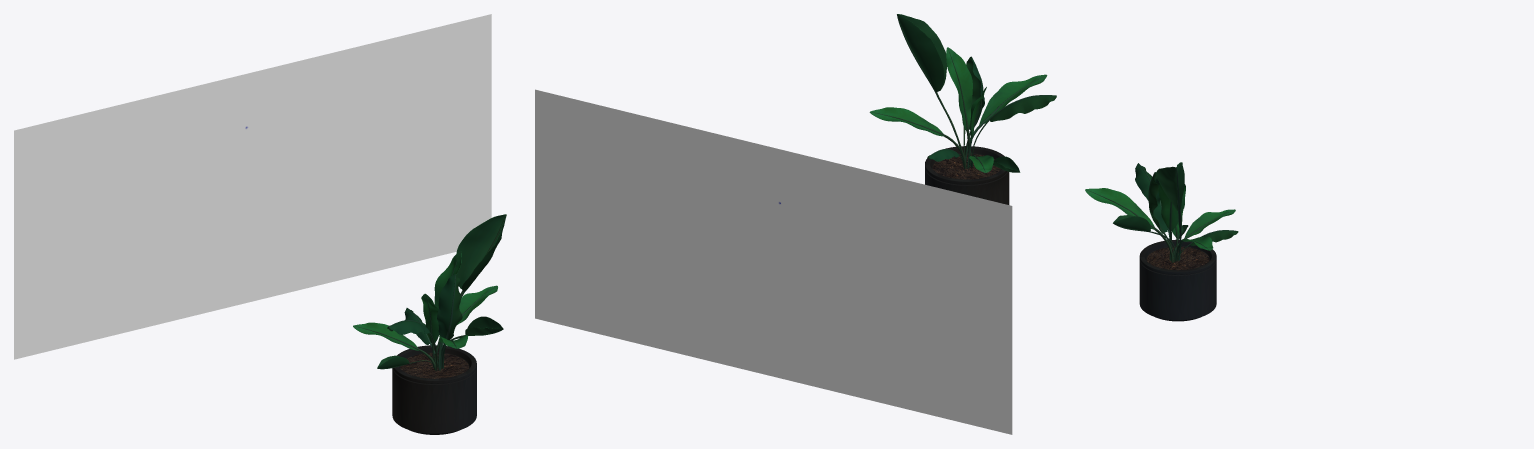
Rendered from plant.gltf.
The picture shows the model from 3 angles, left to right: view 1: azimuth 30°, elevation 25°; view 2: azimuth 150°, elevation 25°; view 3: azimuth 270°, elevation 25°; orthographic projection. The views are drawn at different scales.
Parts seen in each view (by area): view 1: Node #0, node_id87; view 2: Node #0, node_id87; view 3: node_id87.
Boxes of the visible parts, <box> form: Node #0: <box>14,14,491,359</box>; node_id87: <box>353,214,506,434</box>; Node #0: <box>535,89,1012,434</box>; node_id87: <box>869,14,1056,204</box>; node_id87: <box>1085,162,1238,321</box>.
Size of the model in its own units: 1.35 by 0.619 by 1.17.
2 materials, 2 textured.
